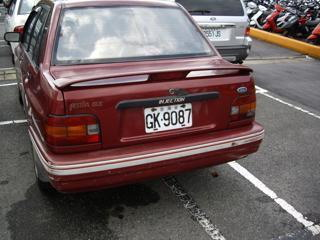plate: (142, 107, 195, 130)
